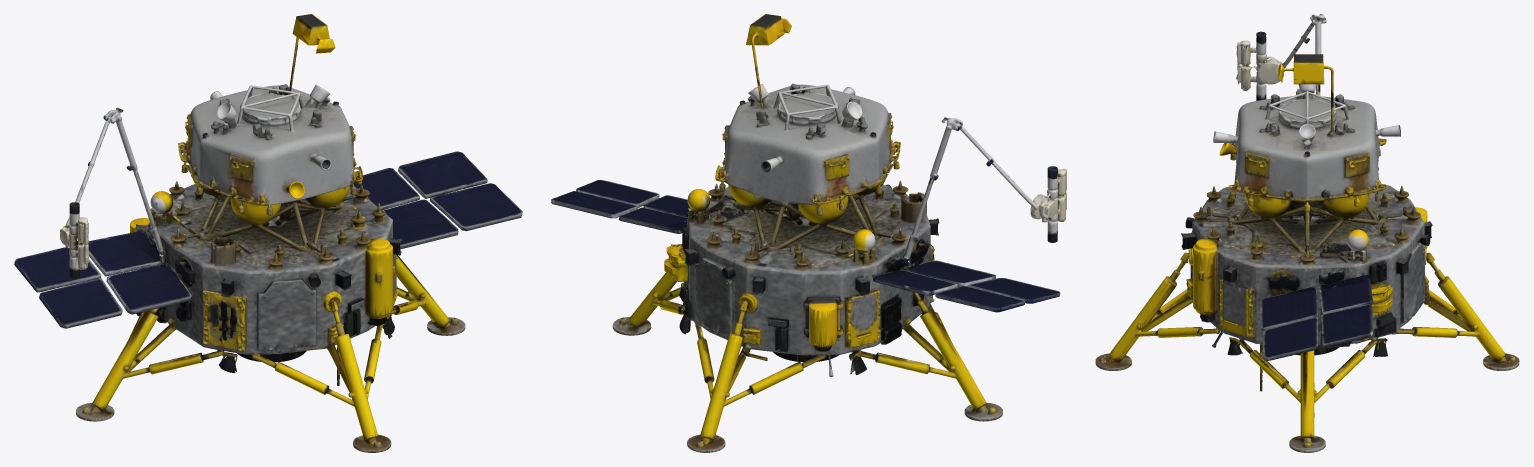
File: change5.glb
The picture shows the model from 3 angles, left to right: view 1: azimuth 30°, elevation 25°; view 2: azimuth 150°, elevation 25°; view 3: azimuth 270°, elevation 25°; orthographic projection. The views are drawn at different scales.
Size of the model in its own units: 1.9 by 1.37 by 1.58.
1 material, 1 textured.
